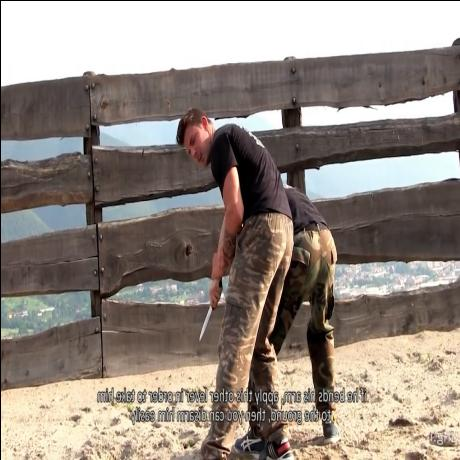1: (173, 104, 292, 460), (267, 174, 341, 460)
weapon: (197, 306, 210, 342)
